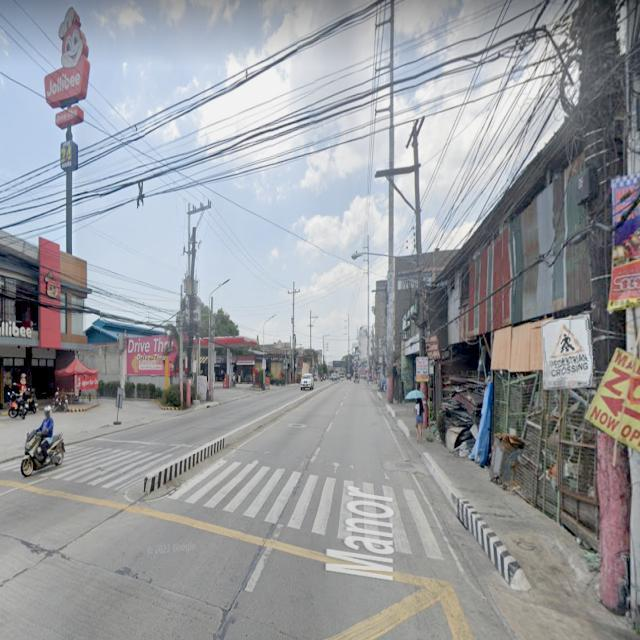pedestrian crossing: (543, 320, 593, 381)
